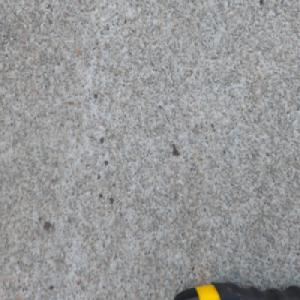Cutter: (169, 276, 300, 300)
